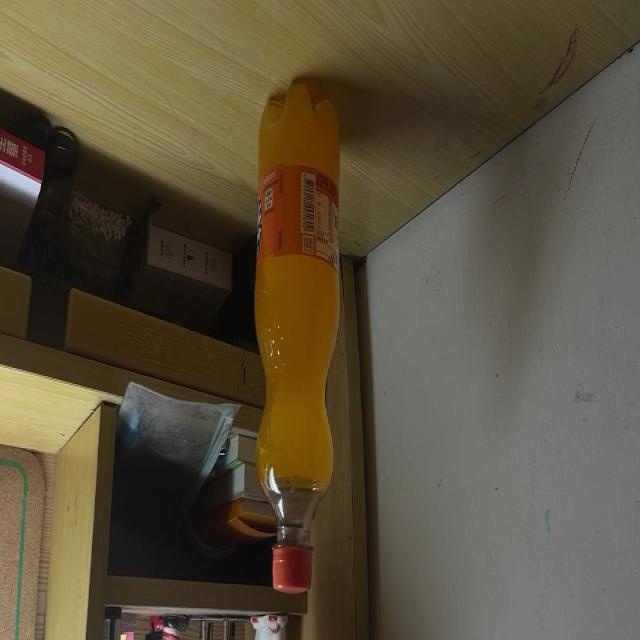Fanta: (254, 81, 340, 594)
